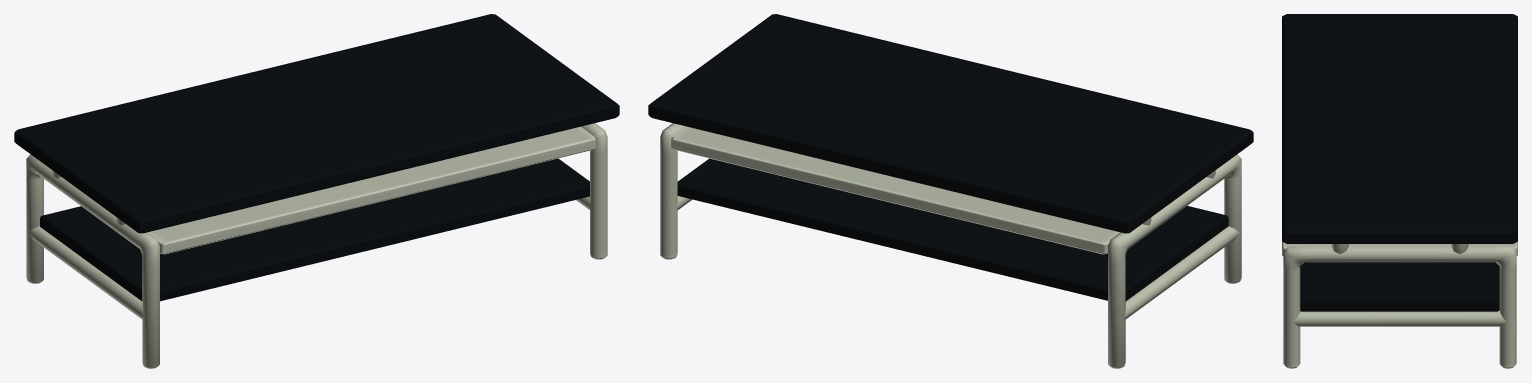
3 renders of one model, left to right at view 1: azimuth 30°, elevation 25°; view 2: azimuth 150°, elevation 25°; view 3: azimuth 270°, elevation 25°, orthographic. The views are drawn at different scales.
Bounding box in the file's own units: 17.61 × 5.3 × 8.
2 materials, 2 textured.
